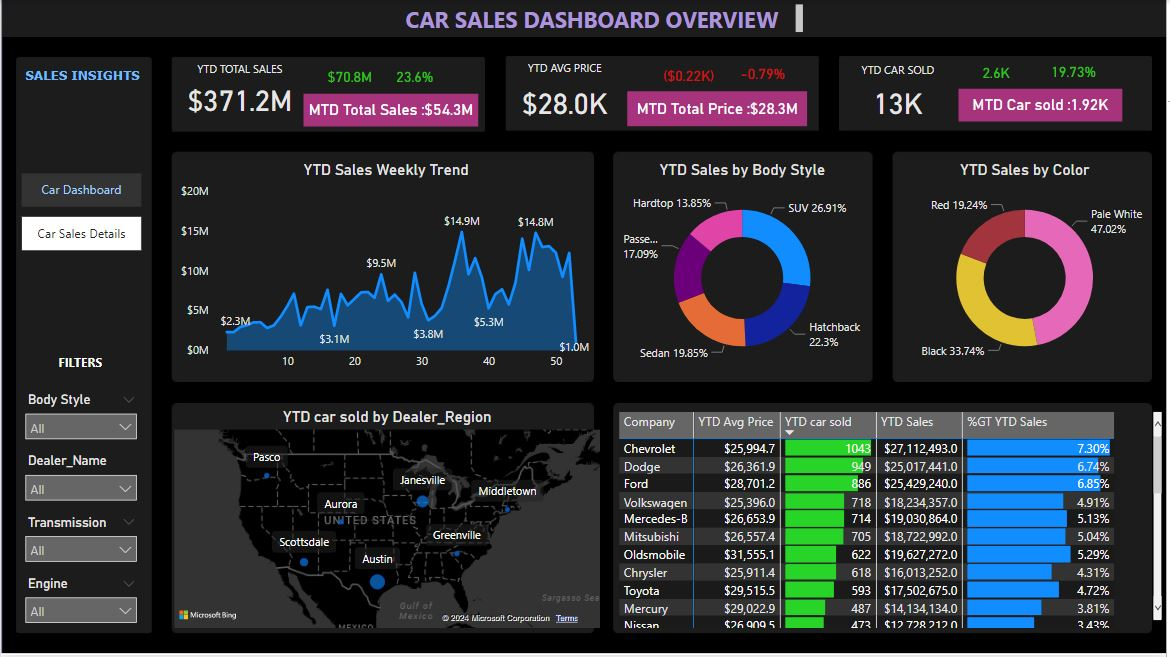

This screenshot's page, from the dashboard's own definition file:
{"tool":"powerbi","page":{"name":"Car Dashboard","canvas":[1280,720],"ordinal":0},"visuals":[{"type":"card","title":"YTD TOTAL SALES","fields":{"Values":["car_data.YTD Sales"]},"box":[192.3,67.3,140.1,65.9],"z":0},{"type":"card","fields":{"Values":["car_data.Sales Diff"]},"box":[342,65.9,82.4,38.5],"z":1000},{"type":"card","fields":{"Values":["car_data.YoY growth sales"]},"box":[424.4,67.3,60.4,35.7],"z":2000},{"type":"card","fields":{"Values":["car_data.KPI Sales"]},"box":[332.4,103,192.3,35.7],"z":3000},{"type":"card","title":"YTD AVG PRICE","fields":{"Values":["car_data.YTD Avg Price"]},"box":[550.7,65.9,137.3,75.5],"z":4000},{"type":"card","fields":{"Values":["car_data.Price Diff"]},"box":[714.2,64.5,82.4,38.5],"z":5000},{"type":"card","fields":{"Values":["car_data.YOY Price Growth"]},"box":[806.2,64.5,60.4,35.7],"z":6000},{"type":"card","fields":{"Values":["car_data.KPI Price"]},"box":[688.1,100.3,197.8,38.5],"z":7000},{"type":"card","title":"YTD CAR SOLD","fields":{"Values":["car_data.YTD car sold"]},"box":[918.8,68.7,133.2,70],"z":8000},{"type":"card","fields":{"Values":["car_data.Car_sold Diff"]},"box":[1052,61.8,82.4,38.5],"z":9000},{"type":"card","fields":{"Values":["car_data.YOY car sold"]},"box":[1148.2,61.8,60.4,35.7],"z":10000},{"type":"card","fields":{"Values":["car_data.KPI car sold"]},"box":[1052,97.5,179.9,35.7],"z":11000},{"type":"areaChart","title":"YTD Sales Weekly Trend","fields":{"Category":["Date Table.Week"],"Y":["Sum(car_data.Price ($))"]},"box":[192.3,175.8,461.5,240.3],"z":12000},{"type":"donutChart","fields":{"Y":["car_data.YTD Sales"],"Category":["car_data.Body Style"]},"box":[674.3,175.8,280.2,240.3],"z":13000},{"type":"donutChart","fields":{"Y":["car_data.YTD Sales"],"Category":["car_data.Color"]},"box":[984.7,175.8,280.2,240.3],"z":14000},{"type":"map","fields":{"Size":["car_data.YTD car sold"],"Category":["car_data.Dealer_Region"]},"box":[185.4,447.7,477.9,247.2],"z":15000},{"type":"pivotTable","title":"Company wise Sales Trend","fields":{"Rows":["car_data.Company"],"Values":["car_data.YTD Avg Price","car_data.YTD car sold","car_data.YTD Sales","Divide(car_data.YTD Sales, ScopedEval(car_data.YTD Sales, []))"]},"box":[674.3,447.7,605.7,247.2],"z":16000},{"type":"textbox","box":[439.5,0,446.4,41.2],"z":17000},{"type":"slicer","fields":{"Values":["car_data.Body Style"]},"box":[16.5,425.8,142.8,67.3],"z":18000},{"type":"slicer","fields":{"Values":["car_data.Dealer_Name"]},"box":[16.5,493,142.8,67.3],"z":19000},{"type":"slicer","fields":{"Values":["car_data.Transmission"]},"box":[16.5,560.3,142.8,67.3],"z":20000},{"type":"slicer","fields":{"Values":["car_data.Engine"]},"box":[16.5,627.6,142.8,67.3],"z":21000},{"type":"textbox","box":[31.6,384.5,111.2,31.6],"z":22000},{"type":"textbox","box":[22,68.7,137.3,50.8],"z":23000},{"type":"pageNavigator","box":[22,189.5,133.2,87.9],"z":24000}]}

Visuals, with their boxes on the page's 1280x720 design canvas (x1, y1, x2, y2). These are canvas units, not pixel positions in the 1170x657 screenshot, which may show the page scaled, cropped or inside an application window:
"YTD TOTAL SALES" card: <region>192, 67, 332, 133</region>
card - car_data.Sales Diff: <region>342, 66, 424, 104</region>
card - car_data.YoY growth sales: <region>424, 67, 485, 103</region>
card - car_data.KPI Sales: <region>332, 103, 525, 139</region>
"YTD AVG PRICE" card: <region>551, 66, 688, 141</region>
card - car_data.Price Diff: <region>714, 64, 797, 103</region>
card - car_data.YOY Price Growth: <region>806, 64, 867, 100</region>
card - car_data.KPI Price: <region>688, 100, 886, 139</region>
"YTD CAR SOLD" card: <region>919, 69, 1052, 139</region>
card - car_data.Car_sold Diff: <region>1052, 62, 1134, 100</region>
card - car_data.YOY car sold: <region>1148, 62, 1209, 98</region>
card - car_data.KPI car sold: <region>1052, 98, 1232, 133</region>
"YTD Sales Weekly Trend" areaChart: <region>192, 176, 654, 416</region>
donutChart - car_data.YTD Sales x car_data.Body Style: <region>674, 176, 954, 416</region>
donutChart - car_data.YTD Sales x car_data.Color: <region>985, 176, 1265, 416</region>
map - car_data.YTD car sold x car_data.Dealer_Region: <region>185, 448, 663, 695</region>
"Company wise Sales Trend" pivotTable: <region>674, 448, 1280, 695</region>
textbox: <region>440, 0, 886, 41</region>
slicer - car_data.Body Style: <region>16, 426, 159, 493</region>
slicer - car_data.Dealer_Name: <region>16, 493, 159, 560</region>
slicer - car_data.Transmission: <region>16, 560, 159, 628</region>
slicer - car_data.Engine: <region>16, 628, 159, 695</region>
textbox: <region>32, 384, 143, 416</region>
textbox: <region>22, 69, 159, 120</region>
pageNavigator: <region>22, 190, 155, 277</region>
